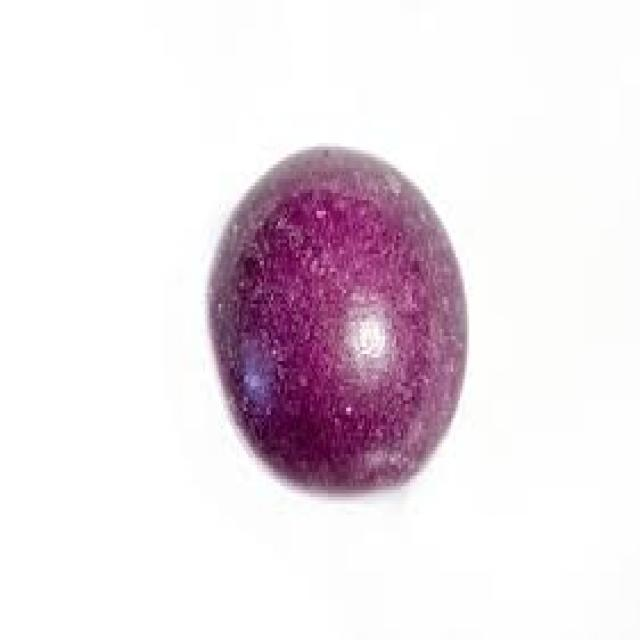smartie: (210, 147, 469, 483)
